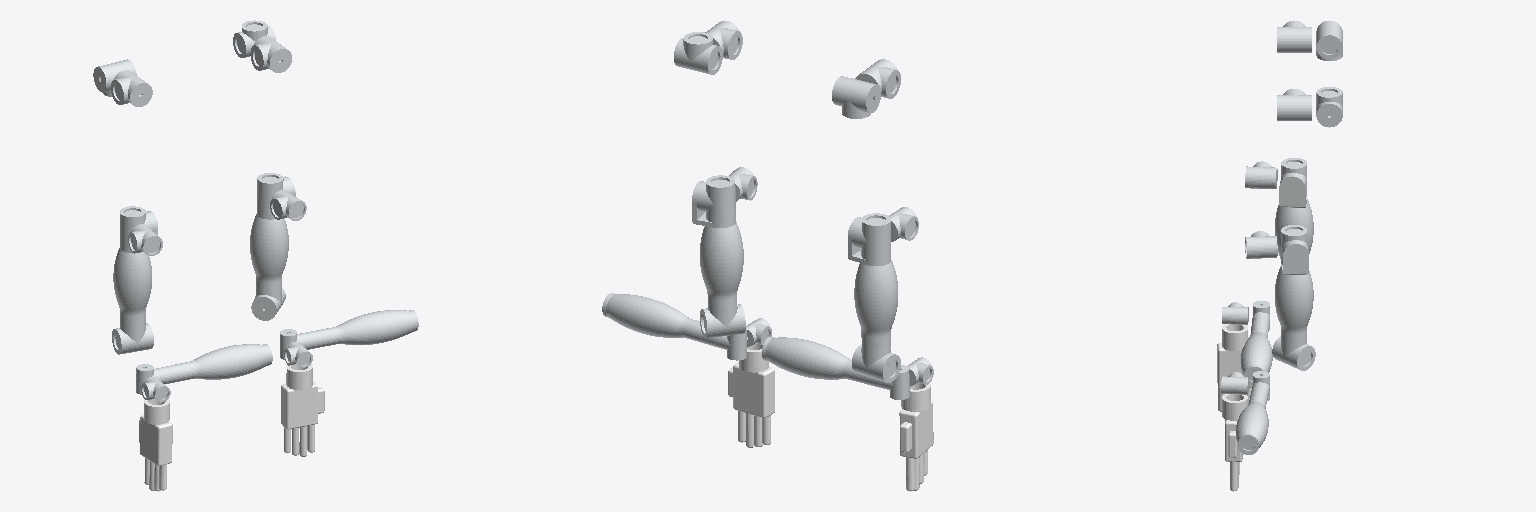
URDF robot description (hustdoublearm):
<robot
  name="hustdoublearm">
  <link name="world"/>
  <joint name="fixed" type="fixed">
    <parent link="world"/>
    <child link="base_link"/> 
  </joint>
  <link
    name="base_link">
    <inertial>
      <origin
        xyz="0 0 0.63203"
        rpy="0 0 0" />
      <mass
        value="20.813" />
      <inertia
        ixx="2.7544"
        ixy="0"
        ixz="0"
        iyy="2.7597"
        iyz="0"
        izz="0.061219" />
    </inertial>
    <visual>
      <origin
        xyz="0 0 0"
        rpy="0 0 0" />
      <geometry>
        <mesh
          filename="package://hustdoublearm/meshes/base_link.STL" />
      </geometry>
      <material
        name="">
        <color
          rgba="1 1 1 1" />
      </material>
    </visual>
    <collision>
      <origin
        xyz="0 0 0"
        rpy="0 0 0" />
      <geometry>
        <mesh
          filename="package://hustdoublearm/meshes/base_link.STL" />
      </geometry>
    </collision>
  </link>
  <link
    name="right_link1">
    <inertial>
      <origin
        xyz="0.0042186 0 0.00084454"
        rpy="0 0 0" />
      <mass
        value="0.68868" />
      <inertia
        ixx="0.00048923"
        ixy="0"
        ixz="0"
        iyy="0"
        iyz="0"
        izz="0.00038496" />
    </inertial>
    <visual>
      <origin
        xyz="0 0 0"
        rpy="0 0 0" />
      <geometry>
        <mesh
          filename="package://hustdoublearm/meshes/right_link1.STL" />
      </geometry>
      <material
        name="">
        <color
          rgba="0.89804 0.91765 0.92941 1" />
      </material>
    </visual>
    <collision>
      <origin
        xyz="0 0 0"
        rpy="0 0 0" />
      <geometry>
        <mesh
          filename="package://hustdoublearm/meshes/right_link1.STL" />
      </geometry>
    </collision>
  </link>
  <joint
    name="right_joint1"
    type="continuous">
    <origin
      xyz="-0.184 0 1.155"
      rpy="1.5708 -0.0011298 -1.5708" />
    <parent
      link="base_link" />
    <child
      link="right_link1" />
    <axis
      xyz="0 0 -1" />
    <!-- <limit 
    lower="-3.14"       
    upper="3.14"
    effort="10"
    velocity="100" /> -->
  </joint>
  <link
    name="right_link2">
    <inertial>
      <origin
        xyz="0.0042186 0 0.00084454"
        rpy="0 0 0" />
      <mass
        value="0.68868" />
      <inertia
        ixx="0.00048923"
        ixy="0"
        ixz="0"
        iyy="0"
        iyz="0"
        izz="0.00038496" />
    </inertial>
    <visual>
      <origin
        xyz="0 0 0"
        rpy="0 0 0" />
      <geometry>
        <mesh
          filename="package://hustdoublearm/meshes/right_link2.STL" />
      </geometry>
      <material
        name="">
        <color
          rgba="0.89804 0.91765 0.92941 1" />
      </material>
    </visual>
    <collision>
      <origin
        xyz="0 0 0"
        rpy="0 0 0" />
      <geometry>
        <mesh
          filename="package://hustdoublearm/meshes/right_link2.STL" />
      </geometry>
    </collision>
  </link>
  <joint
    name="right_joint2"
    type="revolute">
    <origin
      xyz="0.08 0 0"
      rpy="-1.5708 0.00082791 -1.5708" />
    <parent
      link="right_link1" />
    <child
      link="right_link2" />
    <axis
      xyz="0 0 -1" />
    <limit 
    lower="-3.14"       
    upper="3.14"
    effort="10"
  velocity="100" />
  </joint>
  <link
    name="right_link3">
    <inertial>
      <origin
        xyz="0.0024759 0 -0.14834"
        rpy="0 0 0" />
      <mass
        value="3.131" />
      <inertia
        ixx="0.033509"
        ixy="0"
        ixz="0.0010795"
        iyy="0.033898"
        iyz="0"
        izz="0.0022582" />
    </inertial>
    <visual>
      <origin
        xyz="0 0 0"
        rpy="0 0 0" />
      <geometry>
        <mesh
          filename="package://hustdoublearm/meshes/right_link3.STL" />
      </geometry>
      <material
        name="">
        <color
          rgba="0.89804 0.91765 0.92941 1" />
      </material>
    </visual>
    <collision>
      <origin
        xyz="0 0 0"
        rpy="0 0 0" />
      <geometry>
        <mesh
          filename="package://hustdoublearm/meshes/right_link3.STL" />
      </geometry>
    </collision>
  </link>
  <joint
    name="right_joint3"
    type="revolute">
    <origin
      xyz="0.35 0 0"
      rpy="-1.5708 -1.4847 -1.5708" />
    <parent
      link="right_link2" />
    <child
      link="right_link3" />
    <axis
      xyz="0 0 -1" />
    <limit 
    lower="-3.14"       
    upper="3.14"
    effort="1000"
    velocity="100" />
  </joint>
  <link
    name="right_link4">
    <inertial>
      <origin
        xyz="-0.0012304 0 -0.0035566"
        rpy="0 0 0" />
      <mass
        value="0.41012" />
      <inertia
        ixx="0.00016028"
        ixy="0"
        ixz="0"
        iyy="0"
        iyz="0"
        izz="0.00021033" />
    </inertial>
    <visual>
      <origin
        xyz="0 0 0"
        rpy="0 0 0" />
      <geometry>
        <mesh
          filename="package://hustdoublearm/meshes/right_link4.STL" />
      </geometry>
      <material
        name="">
        <color
          rgba="0.89804 0.91765 0.92941 1" />
      </material>
    </visual>
    <collision>
      <origin
        xyz="0 0 0"
        rpy="0 0 0" />
      <geometry>
        <mesh
          filename="package://hustdoublearm/meshes/right_link4.STL" />
      </geometry>
    </collision>
  </link>
  <joint
    name="right_joint4"
    type="revolute">
    <origin
      xyz="0.075 0 0"
      rpy="1.5708 -1.5567 1.5708" />
    <parent
      link="right_link3" />
    <child
      link="right_link4" />
    <axis
      xyz="0 0 -1" />
    <limit 
    lower="-3.14"       
    upper="3.14"
    effort="1000"
    velocity="100" />
  </joint>
  <link
    name="right_link5">
    <inertial>
      <origin
        xyz="-0.00017625 0 -0.16373"
        rpy="0 0 0" />
      <mass
        value="1.2638" />
      <inertia
        ixx="0.012836"
        ixy="0"
        ixz="0"
        iyy="0"
        iyz="0"
        izz="0.00058313" />
    </inertial>
    <visual>
      <origin
        xyz="0 0 0"
        rpy="0 0 0" />
      <geometry>
        <mesh
          filename="package://hustdoublearm/meshes/right_link5.STL" />
      </geometry>
      <material
        name="">
        <color
          rgba="0.89804 0.91765 0.92941 1" />
      </material>
    </visual>
    <collision>
      <origin
        xyz="0 0 0"
        rpy="0 0 0" />
      <geometry>
        <mesh
          filename="package://hustdoublearm/meshes/right_link5.STL" />
      </geometry>
    </collision>
  </link>
  <joint
    name="right_joint5"
    type="revolute">
    <origin
      xyz="0.35 0 0"
      rpy="1.5708 -1.5342 1.5708" />
    <parent
      link="right_link4" />
    <child
      link="right_link5" />
    <axis
      xyz="0 0 -1" />
    <limit 
    lower="-3.14"       
    upper="3.14"
    effort="1000"
    velocity="100" />
  </joint>
  <link
    name="right_link6">
    <inertial>
      <origin
        xyz="-0.00097738 0 -0.0033271"
        rpy="0 0 0" />
      <mass
        value="0.2279" />
      <inertia
        ixx="0.000059519"
        ixy="0"
        ixz="0"
        iyy="0"
        iyz="0"
        izz="0.000081241" />
    </inertial>
    <visual>
      <origin
        xyz="0 0 0"
        rpy="0 0 0" />
      <geometry>
        <mesh
          filename="package://hustdoublearm/meshes/right_link6.STL" />
      </geometry>
      <material
        name="">
        <color
          rgba="0.89804 0.91765 0.92941 1" />
      </material>
    </visual>
    <collision>
      <origin
        xyz="0 0 0"
        rpy="0 0 0" />
      <geometry>
        <mesh
          filename="package://hustdoublearm/meshes/right_link6.STL" />
      </geometry>
    </collision>
  </link>
  <joint
    name="right_joint6"
    type="revolute">
    <origin
      xyz="0.06 0 0"
      rpy="1.5708 -1.5707 1.5708" />
    <parent
      link="right_link5" />
    <child
      link="right_link6" />
    <axis
      xyz="0 0 -1" />
    <limit 
    lower="-3.14"       
    upper="3.14"
    effort="1000"
    velocity="100" />
  </joint>
  <link
    name="right_link7">
    <inertial>
      <origin
        xyz="0 0.0023807 0.093766"
        rpy="0 0 0" />
      <mass
        value="0.56698" />
      <inertia
        ixx="0.0018193"
        ixy="0"
        ixz="0"
        iyy="0"
        iyz="0"
        izz="0.00038792" />
    </inertial>
    <visual>
      <origin
        xyz="0 0 0"
        rpy="0 0 0" />
      <geometry>
        <mesh
          filename="package://hustdoublearm/meshes/right_link7.STL" />
      </geometry>
      <material
        name="">
        <color
          rgba="1 1 1 1" />
      </material>
    </visual>
    <collision>
      <origin
        xyz="0 0 0"
        rpy="0 0 0" />
      <geometry>
        <mesh
          filename="package://hustdoublearm/meshes/right_link7.STL" />
      </geometry>
    </collision>
  </link>
  <joint
    name="right_joint7"
    type="revolute">
    <origin
      xyz="0.03 0 0"
      rpy="1.5708 -1.4552 1.5708" />
    <parent
      link="right_link6" />
    <child
      link="right_link7" />
    <axis
      xyz="0 0 1" />
    <limit 
    lower="-3.14"       
    upper="3.14"
    effort="1000"
    velocity="100" />
  </joint>

  <link
    name="left_link1">
    <inertial>
      <origin
        xyz="0.0042186 0 0.00084454"
        rpy="0 0 0" />
      <mass
        value="0.68868" />
      <inertia
        ixx="0.00048923"
        ixy="0"
        ixz="0"
        iyy="0"
        iyz="0"
        izz="0.00038496" />
    </inertial>
    <visual>
      <origin
        xyz="0 0 0"
        rpy="0 0 0" />
      <geometry>
        <mesh
          filename="package://hustdoublearm/meshes/left_link1.STL" />
      </geometry>
      <material
        name="">
        <color
          rgba="0.89804 0.91765 0.92941 1" />
      </material>
    </visual>
    <collision>
      <origin
        xyz="0 0 0"
        rpy="0 0 0" />
      <geometry>
        <mesh
          filename="package://hustdoublearm/meshes/left_link1.STL" />
      </geometry>
    </collision>
  </link>
  <joint
    name="left_joint1"
    type="revolute">
    <origin
      xyz="0.184 0 1.155"
      rpy="-1.5708 -0.0015412 -1.5708" />
    <parent
      link="base_link" />
    <child
      link="left_link1" />
    <axis
      xyz="0 0 -1" />
    <limit 
    lower="-3.14"       
    upper="3.14"
    effort="1000"
    velocity="100" />
  </joint>
  <link
    name="left_link2">
    <inertial>
      <origin
        xyz="0.0042186 0 0.00084454"
        rpy="0 0 0" />
      <mass
        value="0.68868" />
      <inertia
        ixx="0.00048923"
        ixy="0"
        ixz="0"
        iyy="0"
        iyz="0"
        izz="0.00038496" />
    </inertial>
    <visual>
      <origin
        xyz="0 0 0"
        rpy="0 0 0" />
      <geometry>
        <mesh
          filename="package://hustdoublearm/meshes/left_link2.STL" />
      </geometry>
      <material
        name="">
        <color
          rgba="0.89804 0.91765 0.92941 1" />
      </material>
    </visual>
    <collision>
      <origin
        xyz="0 0 0"
        rpy="0 0 0" />
      <geometry>
        <mesh
          filename="package://hustdoublearm/meshes/left_link2.STL" />
      </geometry>
    </collision>
  </link>
  <joint
    name="left_joint2"
    type="revolute">
    <origin
      xyz="0.08 0 0"
      rpy="1.5708 0.016458 1.5708" />
    <parent
      link="left_link1" />
    <child
      link="left_link2" />
    <axis
      xyz="0 0 -1" />
    <limit 
    lower="-3.14"       
    upper="3.14"
    effort="1000"
    velocity="100" />
  </joint>
  <link
    name="left_link3">
    <inertial>
      <origin
        xyz="0.0024641 0.00025279 -0.14054"
        rpy="0 0 0" />
      <mass
        value="3.131" />
      <inertia
        ixx="0.03158"
        ixy="0"
        ixz="0.0010523"
        iyy="0.031965"
        iyz="0"
        izz="0.0022582" />
    </inertial>
    <visual>
      <origin
        xyz="0 0 0"
        rpy="0 0 0" />
      <geometry>
        <mesh
          filename="package://hustdoublearm/meshes/left_link3.STL" />
      </geometry>
      <material
        name="">
        <color
          rgba="0.89804 0.91765 0.92941 1" />
      </material>
    </visual>
    <collision>
      <origin
        xyz="0 0 0"
        rpy="0 0 0" />
      <geometry>
        <mesh
          filename="package://hustdoublearm/meshes/left_link3.STL" />
      </geometry>
    </collision>
  </link>
  <joint
    name="left_joint3"
    type="revolute">
    <origin
      xyz="0.35 0 0"
      rpy="1.5708 -1.4847 1.5708" />
    <parent
      link="left_link2" />
    <child
      link="left_link3" />
    <axis
      xyz="0 0 -1" />
    <limit 
    lower="-3.14"       
    upper="3.14"
    effort="1000"
    velocity="100" />
  </joint>
  <link
    name="left_link4">
    <inertial>
      <origin
        xyz="-0.0012304 0 -0.0035566"
        rpy="0 0 0" />
      <mass
        value="0.41012" />
      <inertia
        ixx="0.00016028"
        ixy="0"
        ixz="0"
        iyy="0"
        iyz="0"
        izz="0.00021033" />
    </inertial>
    <visual>
      <origin
        xyz="0 0 0"
        rpy="0 0 0" />
      <geometry>
        <mesh
          filename="package://hustdoublearm/meshes/left_link4.STL" />
      </geometry>
      <material
        name="">
        <color
          rgba="0.89804 0.91765 0.92941 1" />
      </material>
    </visual>
    <collision>
      <origin
        xyz="0 0 0"
        rpy="0 0 0" />
      <geometry>
        <mesh
          filename="package://hustdoublearm/meshes/left_link4.STL" />
      </geometry>
    </collision>
  </link>
  <joint
    name="left_joint4"
    type="revolute">
    <origin
      xyz="0.075 0 0"
      rpy="-1.5708 -1.5567 -1.5708" />
    <parent
      link="left_link3" />
    <child
      link="left_link4" />
    <axis
      xyz="0 0 -1" />
    <limit 
    lower="-3.14"       
    upper="3.14"
    effort="1000"
    velocity="100" />
  </joint>
  <link
    name="left_link5">
    <inertial>
      <origin
        xyz="-0.00017625 0 -0.16373"
        rpy="0 0 0" />
      <mass
        value="1.2638" />
      <inertia
        ixx="0.012836"
        ixy="0"
        ixz="0"
        iyy="0"
        iyz="0"
        izz="0.00058313" />
    </inertial>
    <visual>
      <origin
        xyz="0 0 0"
        rpy="0 0 0" />
      <geometry>
        <mesh
          filename="package://hustdoublearm/meshes/left_link5.STL" />
      </geometry>
      <material
        name="">
        <color
          rgba="0.89804 0.91765 0.92941 1" />
      </material>
    </visual>
    <collision>
      <origin
        xyz="0 0 0"
        rpy="0 0 0" />
      <geometry>
        <mesh
          filename="package://hustdoublearm/meshes/left_link5.STL" />
      </geometry>
    </collision>
  </link>
  <joint
    name="left_joint5"
    type="revolute">
    <origin
      xyz="0.35 0 0"
      rpy="-1.5708 -1.3914 -1.5708" />
    <parent
      link="left_link4" />
    <child
      link="left_link5" />
    <axis
      xyz="0 0 -1" />
    <limit 
    lower="-3.14"       
    upper="3.14"
    effort="1000"
    velocity="100" />
  </joint>
  <link
    name="left_link6">
    <inertial>
      <origin
        xyz="-0.00097738 0 -0.0033271"
        rpy="0 0 0" />
      <mass
        value="0.2279" />
      <inertia
        ixx="0.000059519"
        ixy="0"
        ixz="0"
        iyy="0"
        iyz="0"
        izz="0.000081241" />
    </inertial>
    <visual>
      <origin
        xyz="0 0 0"
        rpy="0 0 0" />
      <geometry>
        <mesh
          filename="package://hustdoublearm/meshes/left_link6.STL" />
      </geometry>
      <material
        name="">
        <color
          rgba="0.89804 0.91765 0.92941 1" />
      </material>
    </visual>
    <collision>
      <origin
        xyz="0 0 0"
        rpy="0 0 0" />
      <geometry>
        <mesh
          filename="package://hustdoublearm/meshes/left_link6.STL" />
      </geometry>
    </collision>
  </link>
  <joint
    name="left_joint6"
    type="revolute">
    <origin
      xyz="0.06 0 0"
      rpy="-0.83867 -1.5708 -2.3029" />
    <parent
      link="left_link5" />
    <child
      link="left_link6" />
    <axis
      xyz="0 0 -1" />
    <limit 
    lower="-3.14"      
     upper="3.14"
    effort="1000"
    velocity="100" />
  </joint>
  <link
    name="left_link7">
    <inertial>
      <origin
        xyz="-0.0023807 0 0.093766"
        rpy="0 0 0" />
      <mass
        value="0.56698" />
      <inertia
        ixx="0.0015848"
        ixy="0"
        ixz="0"
        iyy="0"
        iyz="0"
        izz="0.00038792" />
    </inertial>
    <visual>
      <origin
        xyz="0 0 0"
        rpy="0 0 0" />
      <geometry>
        <mesh
          filename="package://hustdoublearm/meshes/left_link7.STL" />
      </geometry>
      <material
        name="">
        <color
          rgba="1 1 1 1" />
      </material>
    </visual>
    <collision>
      <origin
        xyz="0 0 0"
        rpy="0 0 0" />
      <geometry>
        <mesh
          filename="package://hustdoublearm/meshes/left_link7.STL" />
      </geometry>
    </collision>
  </link>
  <joint
    name="left_joint7"
    type="revolute">
    <origin
      xyz="0.03 0 0"
      rpy="-1.5708 0 -1.5708" />
    <parent
      link="left_link6" />
    <child
      link="left_link7" />
    <axis
      xyz="0 0 1" />
    <limit 
    lower="-3.14"       
    upper="3.14"
    effort="1000"
    velocity="100" />
  </joint>

  <transmission name="left_tran1">
    <type>transmission_interface/SimpleTransmission</type>
    <joint name="left_joint1">
      <hardwareInterface>hardware_interface/VelocityJointInterface</hardwareInterface>
    </joint>
    <actuator name="left_motor1">
      <hardwareInterface>hardware_interface/VelocityJointInterface</hardwareInterface>
      <mechanicalReduction>1</mechanicalReduction>
    </actuator>
  </transmission>
  <transmission name="left_tran2">
    <type>transmission_interface/SimpleTransmission</type>
    <joint name="left_joint2">
      <hardwareInterface>hardware_interface/VelocityJointInterface</hardwareInterface>
    </joint>
    <actuator name="left_motor2">
      <hardwareInterface>hardware_interface/VelocityJointInterface</hardwareInterface>
      <mechanicalReduction>1</mechanicalReduction>
    </actuator>
  </transmission>
  <transmission name="left_tran3">
    <type>transmission_interface/SimpleTransmission</type>
    <joint name="left_joint3">
      <hardwareInterface>hardware_interface/VelocityJointInterface</hardwareInterface>
    </joint>
    <actuator name="left_motor3">
      <hardwareInterface>hardware_interface/VelocityJointInterface</hardwareInterface>
      <mechanicalReduction>1</mechanicalReduction>
    </actuator>
  </transmission>
  <transmission name="left_tran4">
    <type>transmission_interface/SimpleTransmission</type>
    <joint name="left_joint4">
      <hardwareInterface>hardware_interface/VelocityJointInterface</hardwareInterface>
    </joint>
    <actuator name="left_motor4">
      <hardwareInterface>hardware_interface/VelocityJointInterface</hardwareInterface>
      <mechanicalReduction>1</mechanicalReduction>
    </actuator>
  </transmission>
  <transmission name="left_tran5">
    <type>transmission_interface/SimpleTransmission</type>
    <joint name="left_joint5">
      <hardwareInterface>hardware_interface/VelocityJointInterface</hardwareInterface>
    </joint>
    <actuator name="left_motor5">
      <hardwareInterface>hardware_interface/VelocityJointInterface</hardwareInterface>
      <mechanicalReduction>1</mechanicalReduction>
    </actuator>
  </transmission>
  <transmission name="left_tran6">
    <type>transmission_interface/SimpleTransmission</type>
    <joint name="left_joint6">
      <hardwareInterface>hardware_interface/VelocityJointInterface</hardwareInterface>
    </joint>
    <actuator name="left_motor6">
      <hardwareInterface>hardware_interface/VelocityJointInterface</hardwareInterface>
      <mechanicalReduction>1</mechanicalReduction>
    </actuator>
  </transmission>
  <transmission name="left_tran7">
    <type>transmission_interface/SimpleTransmission</type>
    <joint name="left_joint7">
      <hardwareInterface>hardware_interface/VelocityJointInterface</hardwareInterface>
    </joint>
    <actuator name="left_motor7">
      <hardwareInterface>hardware_interface/VelocityJointInterface</hardwareInterface>
      <mechanicalReduction>1</mechanicalReduction>
    </actuator>
  </transmission>

  <transmission name="right_tran1">
    <type>transmission_interface/SimpleTransmission</type>
    <joint name="right_joint1">
      <hardwareInterface>hardware_interface/VelocityJointInterface</hardwareInterface>
    </joint>
    <actuator name="right_motor1">
      <hardwareInterface>hardware_interface/VelocityJointInterface</hardwareInterface>
      <mechanicalReduction>1</mechanicalReduction>
    </actuator>
  </transmission>
  <transmission name="right_tran2">
    <type>transmission_interface/SimpleTransmission</type>
    <joint name="right_joint2">
      <hardwareInterface>hardware_interface/VelocityJointInterface</hardwareInterface>
    </joint>
    <actuator name="right_motor2">
      <hardwareInterface>hardware_interface/VelocityJointInterface</hardwareInterface>
      <mechanicalReduction>1</mechanicalReduction>
    </actuator>
  </transmission>
  <transmission name="right_tran3">
    <type>transmission_interface/SimpleTransmission</type>
    <joint name="right_joint3">
      <hardwareInterface>hardware_interface/VelocityJointInterface</hardwareInterface>
    </joint>
    <actuator name="right_motor3">
      <hardwareInterface>hardware_interface/VelocityJointInterface</hardwareInterface>
      <mechanicalReduction>1</mechanicalReduction>
    </actuator>
  </transmission>
  <transmission name="right_tran4">
    <type>transmission_interface/SimpleTransmission</type>
    <joint name="right_joint4">
      <hardwareInterface>hardware_interface/VelocityJointInterface</hardwareInterface>
    </joint>
    <actuator name="right_motor4">
      <hardwareInterface>hardware_interface/VelocityJointInterface</hardwareInterface>
      <mechanicalReduction>1</mechanicalReduction>
    </actuator>
  </transmission>
  <transmission name="right_tran5">
    <type>transmission_interface/SimpleTransmission</type>
    <joint name="right_joint5">
      <hardwareInterface>hardware_interface/VelocityJointInterface</hardwareInterface>
    </joint>
    <actuator name="right_motor5">
      <hardwareInterface>hardware_interface/VelocityJointInterface</hardwareInterface>
      <mechanicalReduction>1</mechanicalReduction>
    </actuator>
  </transmission>
  <transmission name="right_tran6">
    <type>transmission_interface/SimpleTransmission</type>
    <joint name="right_joint6">
      <hardwareInterface>hardware_interface/VelocityJointInterface</hardwareInterface>
    </joint>
    <actuator name="right_motor6">
      <hardwareInterface>hardware_interface/VelocityJointInterface</hardwareInterface>
      <mechanicalReduction>1</mechanicalReduction>
    </actuator>
  </transmission>
  <transmission name="right_tran7">
    <type>transmission_interface/SimpleTransmission</type>
    <joint name="right_joint7">
      <hardwareInterface>hardware_interface/VelocityJointInterface</hardwareInterface>
    </joint>
    <actuator name="right_motor7">
      <hardwareInterface>hardware_interface/VelocityJointInterface</hardwareInterface>
      <mechanicalReduction>1</mechanicalReduction>
    </actuator>
  </transmission>
  <gazebo>
    <plugin filename="libgazebo_ros_control.so" name="gazebo_ros_control">
      <robotNamespace>/hustdoublearm</robotNamespace>
      <robotSimType>gazebo_ros_control/DefaultRobotHWSim</robotSimType>
    </plugin>
  </gazebo>
</robot>

--- Facts derived from the render (not from the file) ---
The picture shows the robot from 3 angles, left to right: view 1: azimuth 30°, elevation 25°; view 2: azimuth 150°, elevation 25°; view 3: azimuth 270°, elevation 25°; orthographic projection.
Robot: hustdoublearm — 16 links, 15 joints (13 revolute, 1 continuous, 1 fixed); root link world; default pose: all joints at 0.
Links seen in each view (by area): view 1: right_link3, left_link3, left_link5, right_link5, left_link7, right_link7, right_link2, left_link2, left_link1, left_link4, right_link4, right_link1 (+2 smaller); view 2: right_link3, left_link3, left_link5, right_link5, left_link7, right_link7, left_link1, right_link1, right_link2, left_link2, right_link4, left_link4 (+2 smaller); view 3: left_link3, right_link3, left_link5, right_link5, right_link7, left_link7, right_link2, left_link2, right_link1, left_link1, left_link4, right_link4 (+2 smaller).
Boxes of the visible links, x1,y1,x2,y2 form: right_link3: (112, 206, 157, 354); left_link3: (250, 173, 295, 320); left_link5: (280, 310, 418, 359); right_link5: (136, 344, 272, 394); left_link7: (281, 364, 324, 456); right_link7: (139, 399, 172, 491); right_link2: (111, 70, 152, 106); left_link2: (250, 36, 291, 72); left_link1: (233, 20, 275, 57); left_link4: (270, 190, 306, 220); right_link4: (128, 224, 162, 255); right_link1: (93, 59, 136, 96); right_link3: (848, 213, 900, 382); left_link3: (692, 175, 745, 338); left_link5: (602, 293, 746, 360); right_link5: (762, 337, 909, 399); left_link7: (728, 343, 774, 447); right_link7: (899, 383, 933, 491); left_link1: (674, 32, 722, 74); right_link1: (832, 76, 880, 118); right_link2: (855, 59, 900, 98); left_link2: (705, 21, 742, 59); right_link4: (889, 207, 918, 241); left_link4: (729, 167, 757, 201); left_link3: (1272, 225, 1315, 370); right_link3: (1275, 158, 1313, 258); left_link5: (1236, 371, 1269, 454); right_link5: (1241, 301, 1272, 385); right_link7: (1217, 324, 1251, 411); left_link7: (1222, 394, 1247, 491); right_link2: (1277, 20, 1311, 52); left_link2: (1277, 89, 1311, 120); right_link1: (1316, 21, 1342, 60); left_link1: (1316, 87, 1342, 127); left_link4: (1245, 231, 1277, 258); right_link4: (1245, 161, 1277, 188).
Bounding box of the posed robot: 0.7285 × 0.286 × 0.9969 m (x, y, z).
Meshes: 15 distinct files referenced, 14 mesh visuals loaded (14 binary STL); not drawn: 1 (reference not matched to a file when rendering).
